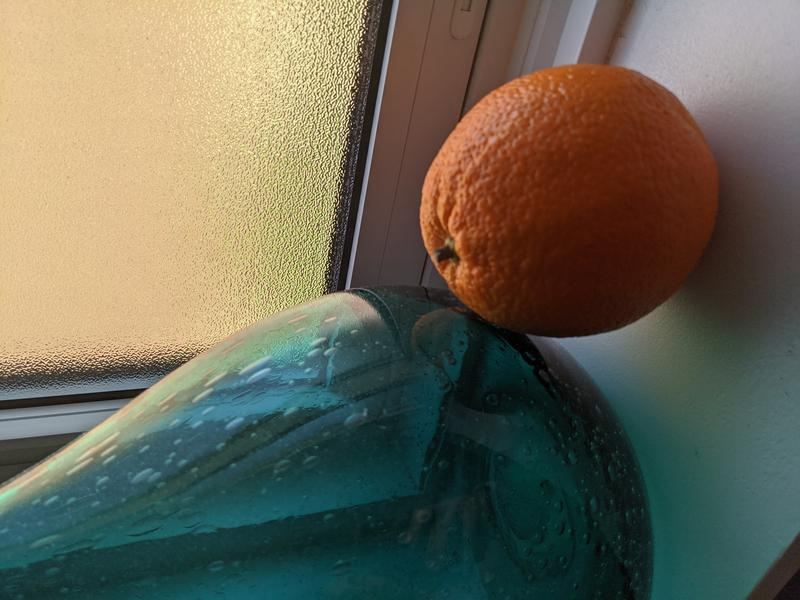orange: (419, 64, 721, 338)
